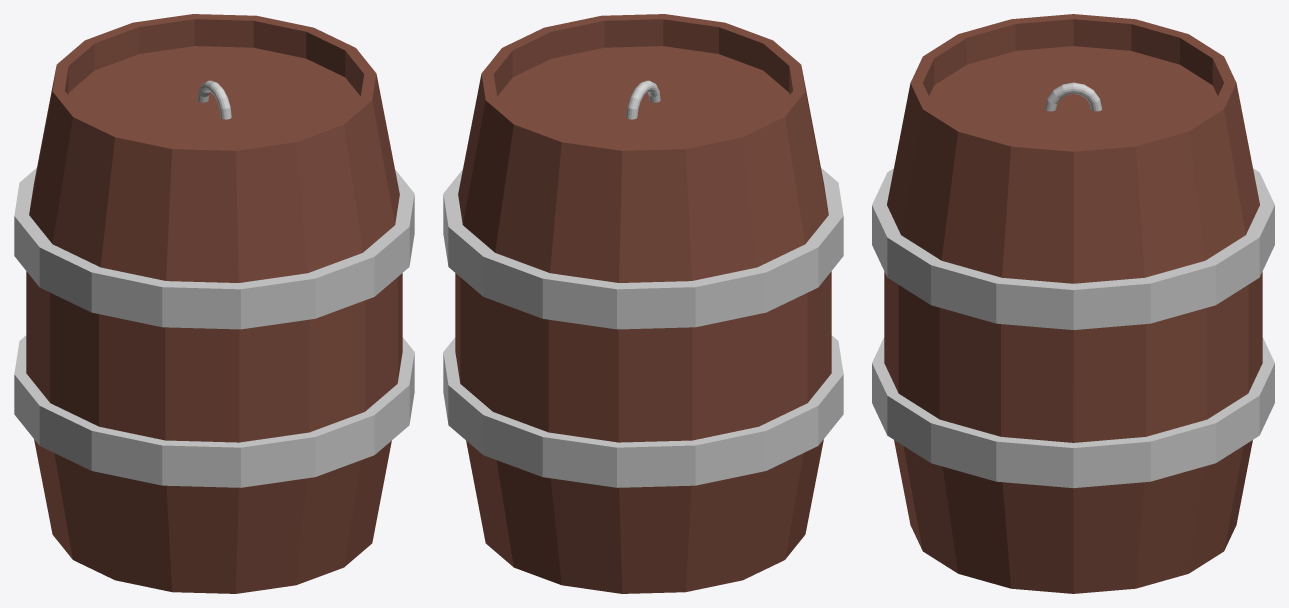
The model's file is barrel.fbx.
The picture shows the model from 3 angles, left to right: view 1: azimuth 30°, elevation 25°; view 2: azimuth 150°, elevation 25°; view 3: azimuth 270°, elevation 25°; orthographic projection.
Visible parts, largest first — view 1: Object; view 2: Object; view 3: Object.
Part boxes in pixels (<box>): Object: <box>14,14,414,593</box>; Object: <box>443,14,843,593</box>; Object: <box>872,14,1274,593</box>.
Bounding box in the file's own units: 247 × 299 × 247.
